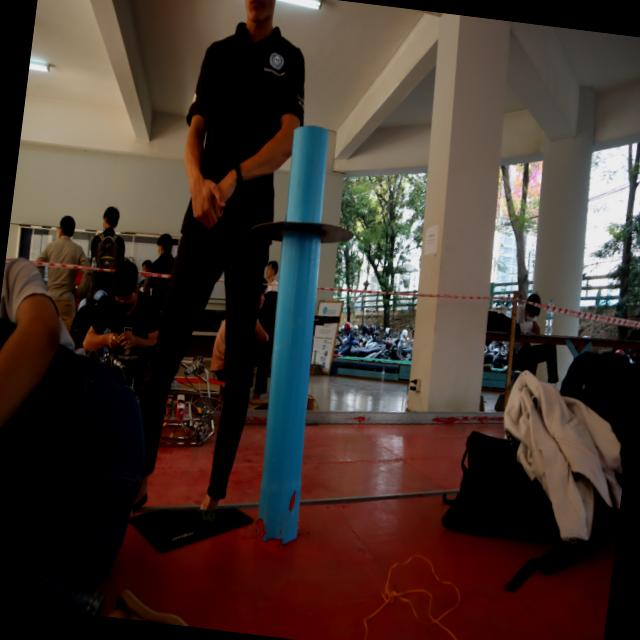pole: (230, 103, 370, 330)
